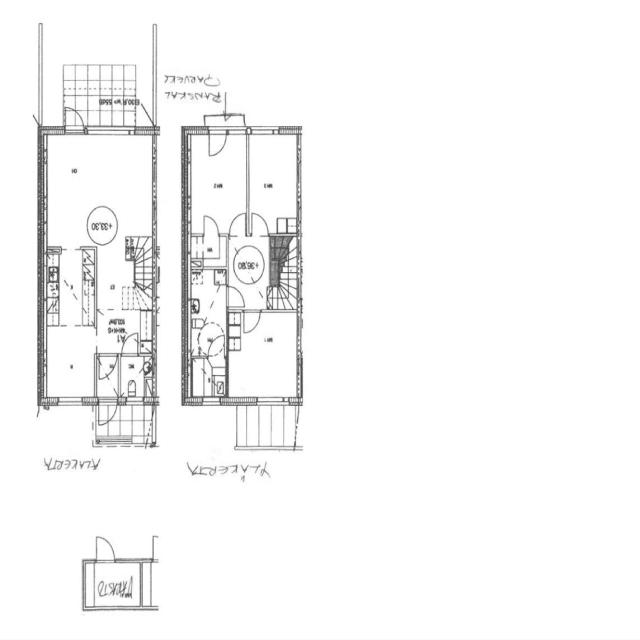door: (92, 532, 117, 564), (206, 126, 230, 159), (62, 104, 86, 136), (94, 351, 118, 382), (248, 209, 270, 239), (242, 306, 262, 336), (223, 284, 246, 310), (228, 209, 248, 238), (97, 398, 119, 424), (120, 331, 141, 356), (206, 334, 227, 358), (201, 212, 221, 237), (92, 308, 111, 330)
window: (85, 123, 146, 142), (251, 392, 295, 410), (48, 392, 90, 410), (246, 121, 282, 138), (201, 393, 222, 409), (228, 121, 248, 137)
zone: (40, 135, 157, 242), (226, 312, 302, 402), (185, 131, 250, 232), (247, 131, 300, 237), (39, 322, 98, 402), (41, 245, 96, 325), (82, 558, 148, 612), (188, 268, 227, 354), (185, 351, 228, 399), (120, 353, 154, 402), (184, 231, 227, 269)
